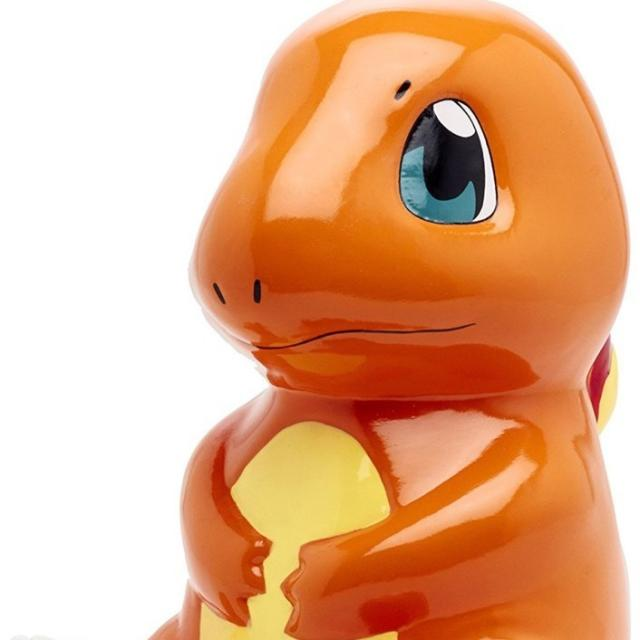Charmander: (148, 0, 640, 640)
